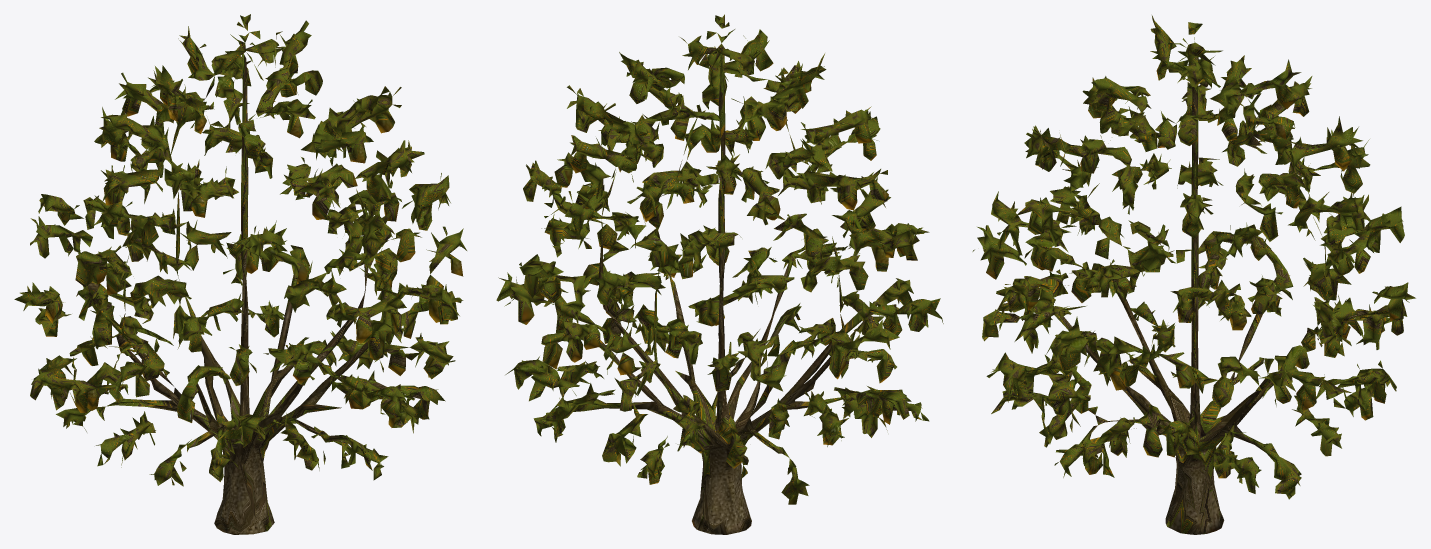
Rendered from apple.glb.
3 renders of one model, left to right at view 1: azimuth 30°, elevation 25°; view 2: azimuth 150°, elevation 25°; view 3: azimuth 270°, elevation 25°, orthographic.
Bounding box in the file's own units: 4.22 × 4.98 × 4.
Materials: 1 (1 with a texture image).
